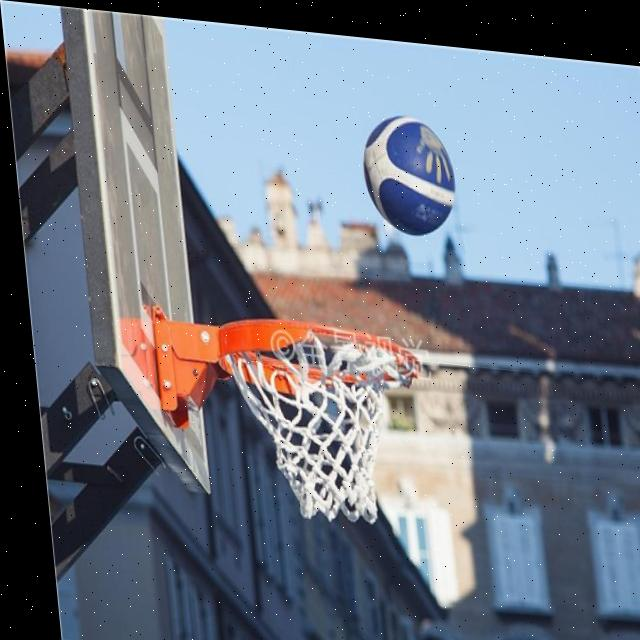basketball: (359, 110, 461, 241)
hoop: (216, 313, 435, 531)
